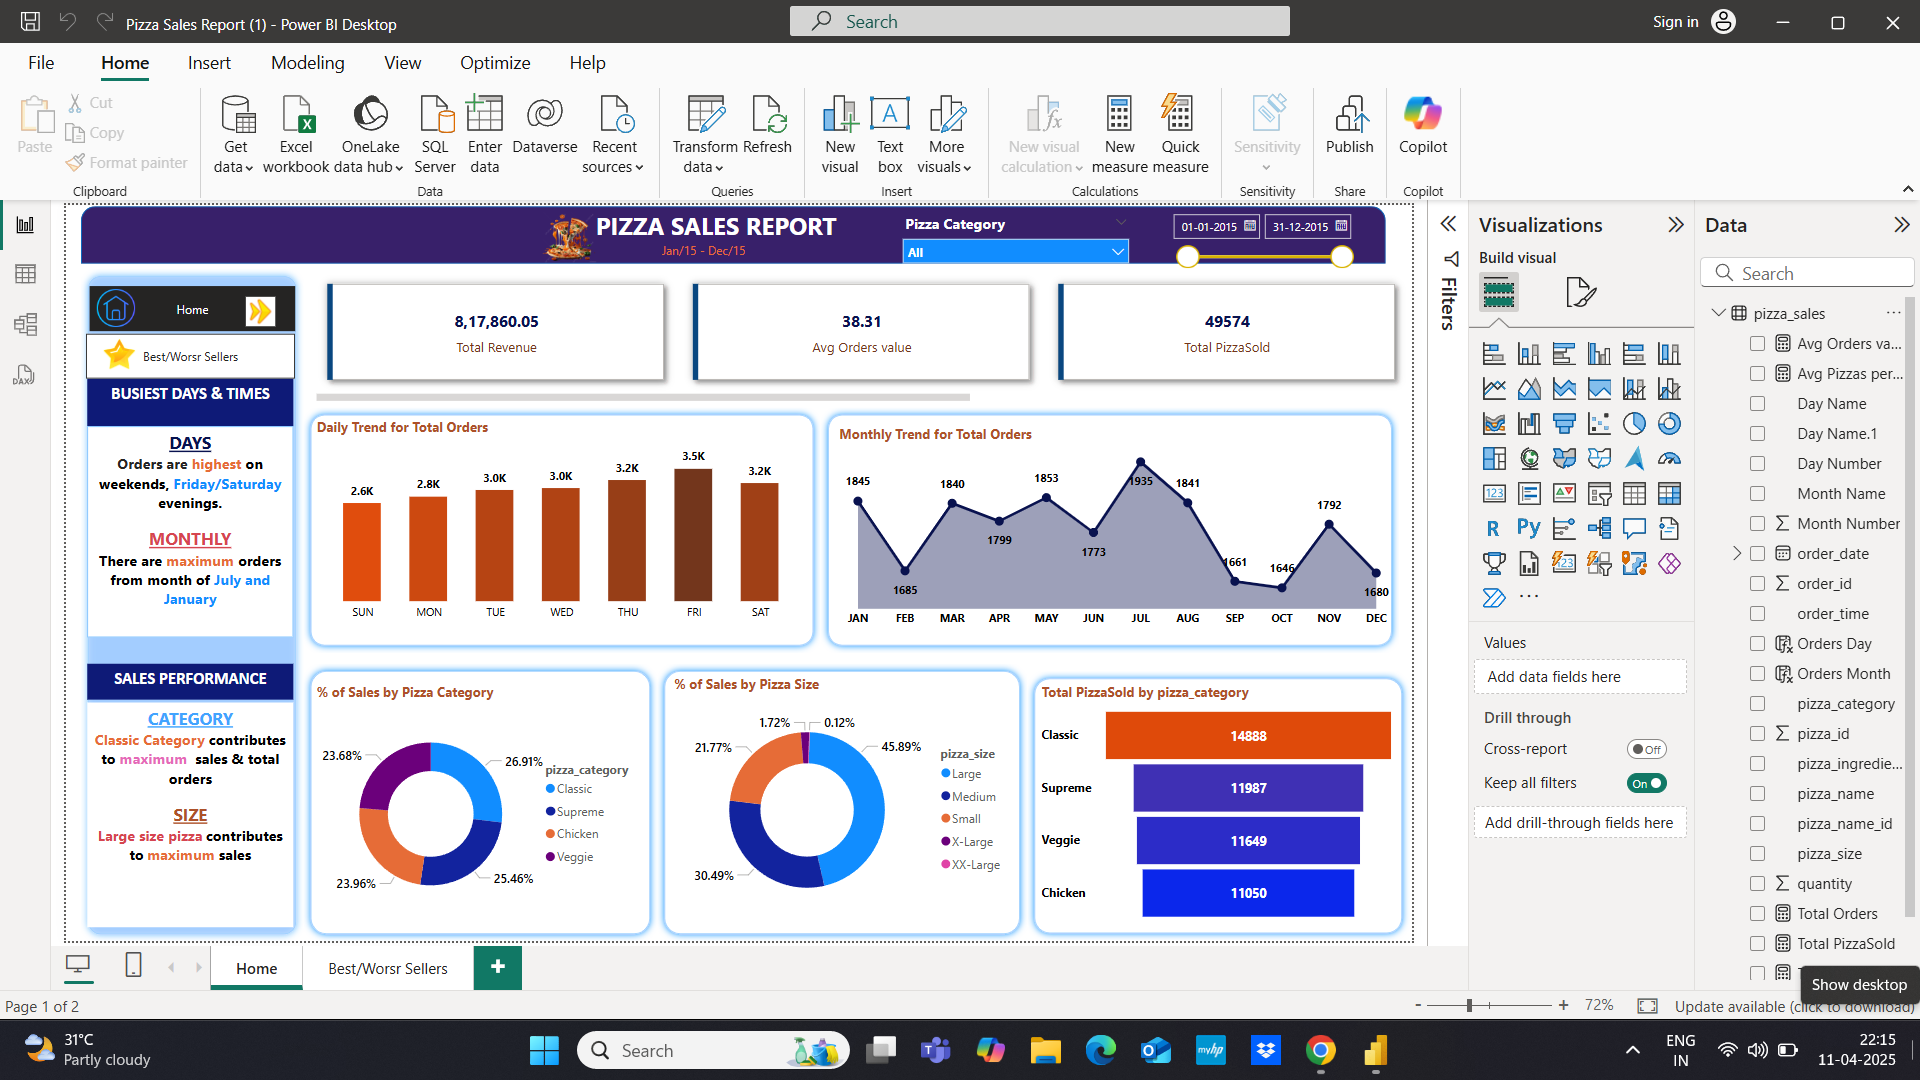

This screenshot's page, from the dashboard's own definition file:
{"tool":"powerbi","page":{"name":"Home","canvas":[1500,820],"ordinal":0},"visuals":[{"type":"cardVisual","fields":{"Data":["pizza_sales.Total Revenue","pizza_sales.Avg Orders value","pizza_sales.Total PizzaSold","pizza_sales.Total Orders","pizza_sales.Avg Pizzas per Orders"]},"box":[274.4,71,1225.5,154.6],"z":0},{"type":"shape","box":[16.7,1.4,1453.9,64.1],"z":1000},{"type":"textbox","box":[572.5,0,303.8,53.8],"z":2000},{"type":"textbox","box":[637.5,36.2,145,36.2],"z":3000},{"type":"image","box":[517.5,1.2,86.2,71.2],"z":4000},{"type":"shape","box":[264.4,225.9,576.4,273.4],"z":5000},{"type":"columnChart","title":"Daily Trend for Total Orders","fields":{"Category":["pizza_sales.Orders Day"],"Y":["pizza_sales.Total Orders"]},"box":[274.7,236.2,555.8,234.9],"z":6000},{"type":"shape","box":[840.8,225.9,644.4,273.4],"z":7000},{"type":"areaChart","title":"Monthly Trend for Total Orders","fields":{"Y":["pizza_sales.Total Orders"],"Category":["pizza_sales.Orders Month"]},"box":[856.5,245.1,629.5,234],"z":8000},{"type":"shape","box":[16.7,70.6,247.7,749.7],"z":9000},{"type":"shape","box":[264.4,510.9,394.1,309.4],"z":10000},{"type":"shape","box":[658.5,510.9,412.1,309.4],"z":11000},{"type":"shape","box":[1070.6,519.9,426.2,300.4],"z":12000},{"type":"donutChart","title":"% of Sales by Pizza Category","fields":{"Category":["pizza_sales.pizza_category"],"Y":["pizza_sales.Total Revenue"]},"box":[274.7,531.4,373.5,273.4],"z":13000},{"type":"donutChart","title":"% of Sales by Pizza Size","fields":{"Y":["pizza_sales.Total Revenue"],"Category":["pizza_sales.pizza_size"]},"box":[672.6,523.7,386.4,281.1],"z":14000},{"type":"funnel","fields":{"Category":["pizza_sales.pizza_category"],"Y":["pizza_sales.Total PizzaSold"]},"box":[1082.1,531.4,404.4,273.4],"z":15000},{"type":"textbox","box":[23.1,193.8,229.8,52.6],"z":16000},{"type":"textbox","box":[23.1,246.5,229.8,234.9],"z":17000},{"type":"textbox","box":[23.1,510.9,229.8,39.8],"z":18000},{"type":"textbox","box":[23.1,554.5,229.8,250.3],"z":19000},{"type":"slicer","fields":{"Values":["pizza_sales.pizza_category"]},"box":[922.5,3.8,272.5,63.8],"z":20000},{"type":"slicer","fields":{"Values":["pizza_sales.order_date"]},"box":[1221.2,0,221.2,90],"z":21000},{"type":"pageNavigator","box":[26.5,90.5,229.8,50.1],"z":22000},{"type":"pageNavigator","box":[22.3,143.4,234,50.1],"z":23000},{"type":"image","box":[158.6,97.1,115.7,42.9],"z":24000},{"type":"image","box":[27.1,81.4,58.6,68.6],"z":25000},{"type":"image","box":[28.6,134.3,58.6,68.6],"z":26000}]}

Visuals, with their boxes on the page's 1500x820 design canvas (x1, y1, x2, y2). These are canvas units, not pixel positions in the 1920x1080 screenshot, which may show the page scaled, cropped or inside an application window:
cardVisual - pizza_sales.Total Revenue x pizza_sales.Avg Orders value: 274 71 1500 226
shape: 17 1 1471 66
textbox: 572 0 876 54
textbox: 638 36 782 72
image: 518 1 604 72
shape: 264 226 841 499
"Daily Trend for Total Orders" columnChart: 275 236 830 471
shape: 841 226 1485 499
"Monthly Trend for Total Orders" areaChart: 856 245 1486 479
shape: 17 71 264 820
shape: 264 511 658 820
shape: 658 511 1071 820
shape: 1071 520 1497 820
"% of Sales by Pizza Category" donutChart: 275 531 648 805
"% of Sales by Pizza Size" donutChart: 673 524 1059 805
funnel - pizza_sales.pizza_category x pizza_sales.Total PizzaSold: 1082 531 1486 805
textbox: 23 194 253 246
textbox: 23 246 253 481
textbox: 23 511 253 551
textbox: 23 554 253 805
slicer - pizza_sales.pizza_category: 922 4 1195 68
slicer - pizza_sales.order_date: 1221 0 1442 90
pageNavigator: 26 90 256 141
pageNavigator: 22 143 256 194
image: 159 97 274 140
image: 27 81 86 150
image: 29 134 87 203
